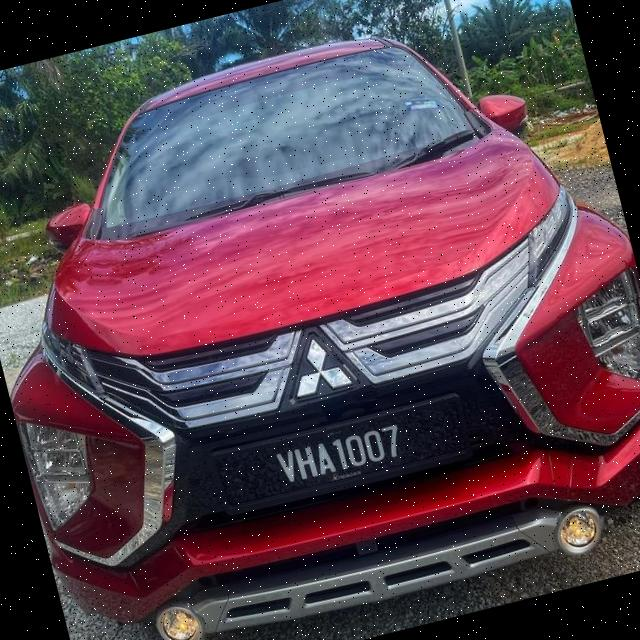License_Plate: (204, 384, 497, 529)
car: (1, 1, 640, 640)
